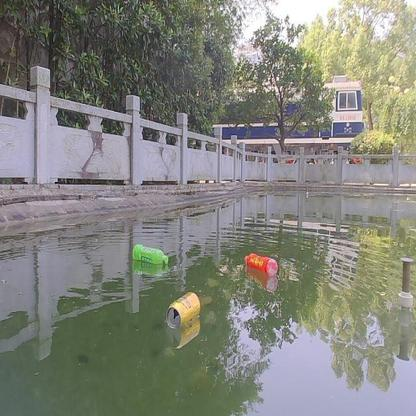can: (165, 291, 199, 326)
plastic bottle: (131, 243, 169, 266), (243, 253, 278, 275)
